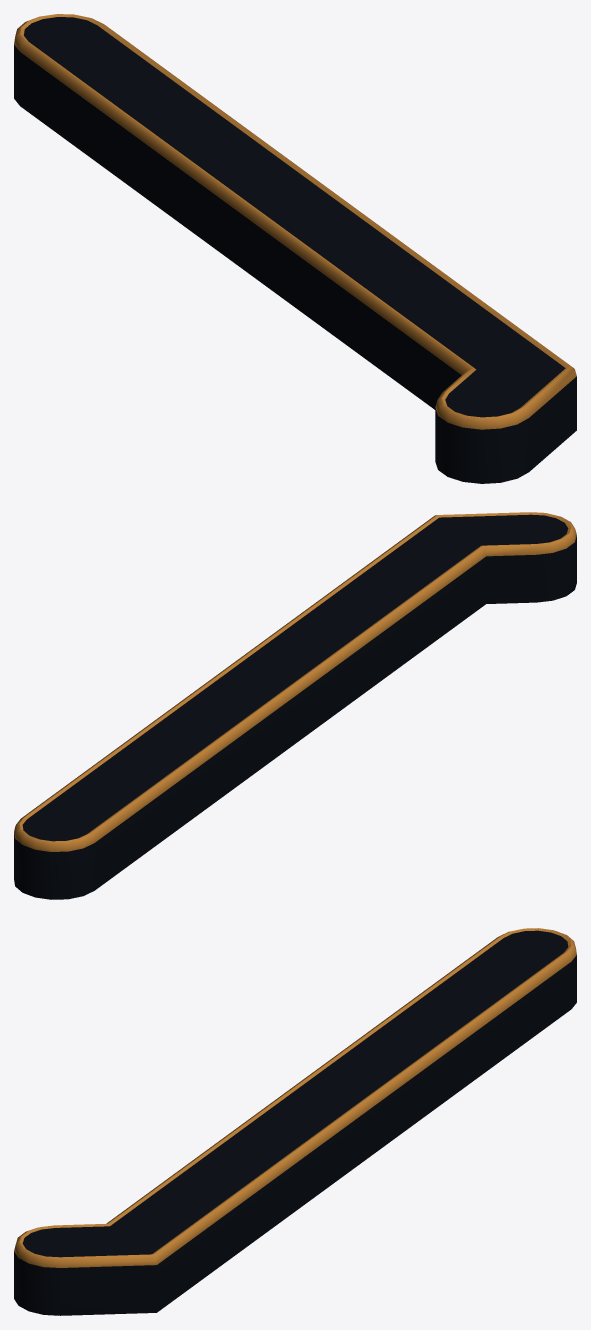
File: anchor-walls.dae
3 views of the same model, one above another, from view 1: azimuth 30°, elevation 25°; view 2: azimuth 150°, elevation 25°; view 3: azimuth 330°, elevation 25° (orthographic). The views are drawn at different scales.
Visible parts, largest first — view 1: cabinet_shell, accent; view 2: cabinet_shell, accent; view 3: cabinet_shell, accent.
Part boxes in pixels (<box>): cabinet_shell: <box>14,17,576,483</box>; accent: <box>14,14,576,429</box>; cabinet_shell: <box>14,514,576,899</box>; accent: <box>14,512,576,851</box>; cabinet_shell: <box>14,930,576,1315</box>; accent: <box>14,928,576,1267</box>.
Bounding box in the file's own units: 0.0711 × 0.03 × 0.4516.
